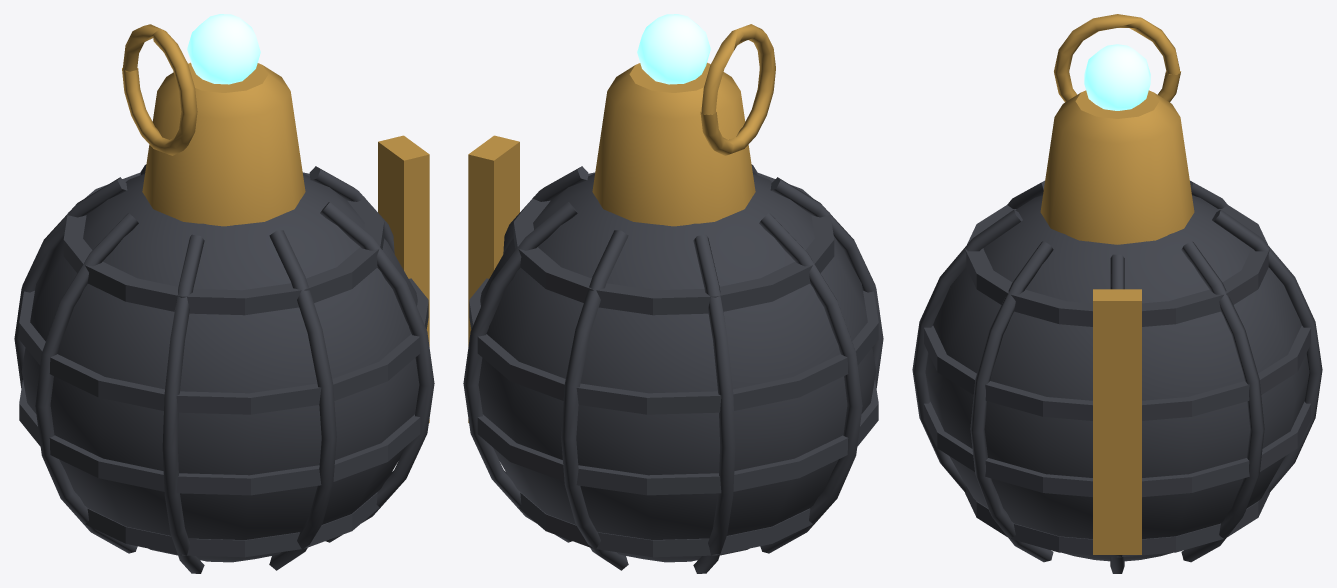
File: grenade.glb
3 views of the same model, side by side, from view 1: azimuth 30°, elevation 25°; view 2: azimuth 150°, elevation 25°; view 3: azimuth 270°, elevation 25° (orthographic). The views are drawn at different scales.
Parts seen in each view (by area): view 1: Grenade_Body, Grenade_Cap, Grenade_Fuse; view 2: Grenade_Body, Grenade_Cap, Grenade_Fuse; view 3: Grenade_Body, Grenade_Cap, Grenade_Fuse.
Boxes of the visible parts, left/top/right/bottom form: Grenade_Body: left=14, top=164, right=434, bottom=573; Grenade_Cap: left=122, top=24, right=429, bottom=422; Grenade_Fuse: left=187, top=14, right=260, bottom=84; Grenade_Body: left=463, top=164, right=883, bottom=573; Grenade_Cap: left=468, top=24, right=775, bottom=422; Grenade_Fuse: left=637, top=14, right=710, bottom=84; Grenade_Body: left=912, top=180, right=1322, bottom=573; Grenade_Cap: left=1040, top=14, right=1194, bottom=554; Grenade_Fuse: left=1084, top=44, right=1150, bottom=110.
Bounding box in the file's own units: 0.1187 × 0.1582 × 0.1172.
